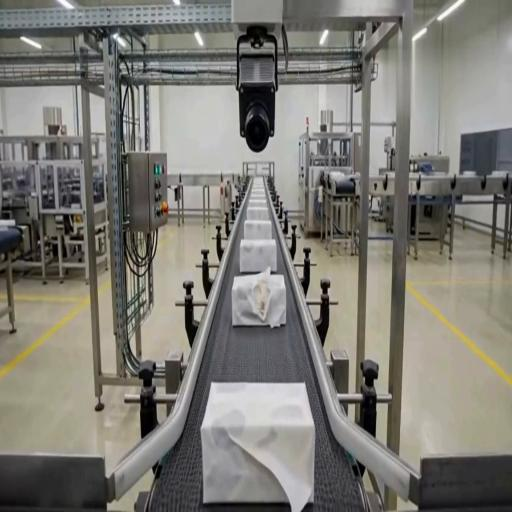defective: (201, 380, 313, 511), (232, 272, 286, 328)
good: (239, 238, 278, 274), (244, 219, 271, 240), (246, 201, 270, 220)
